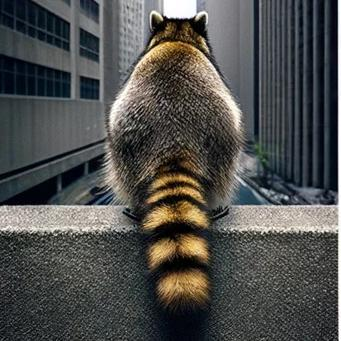raccoon: (99, 4, 252, 341)
